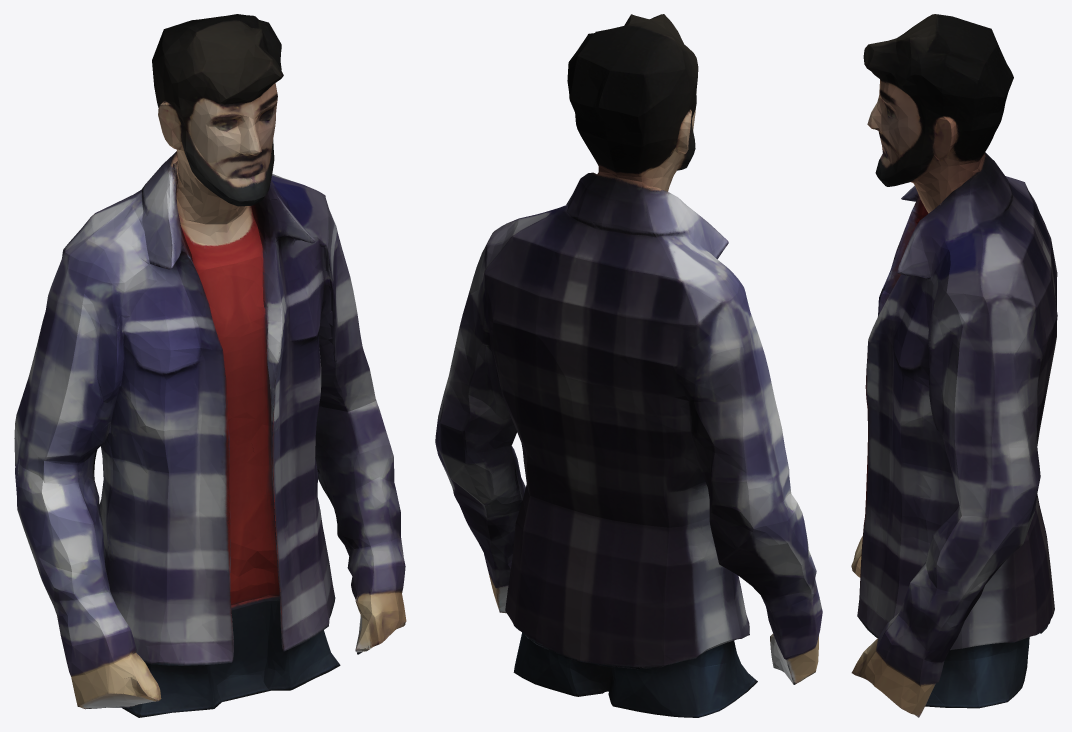
3 views of the same model, side by side, from view 1: azimuth 30°, elevation 25°; view 2: azimuth 150°, elevation 25°; view 3: azimuth 270°, elevation 25° (orthographic). The views are drawn at different scales.
Visible parts, largest first — view 1: world; view 2: world; view 3: world.
Boxes of the visible parts, x1,y1,x2,y2 form: world: [14, 14, 406, 717]; world: [435, 14, 822, 717]; world: [851, 14, 1057, 717].
Bounding box in the file's own units: 0.5668 × 0.9981 × 0.2935.
1 material, 1 textured.
